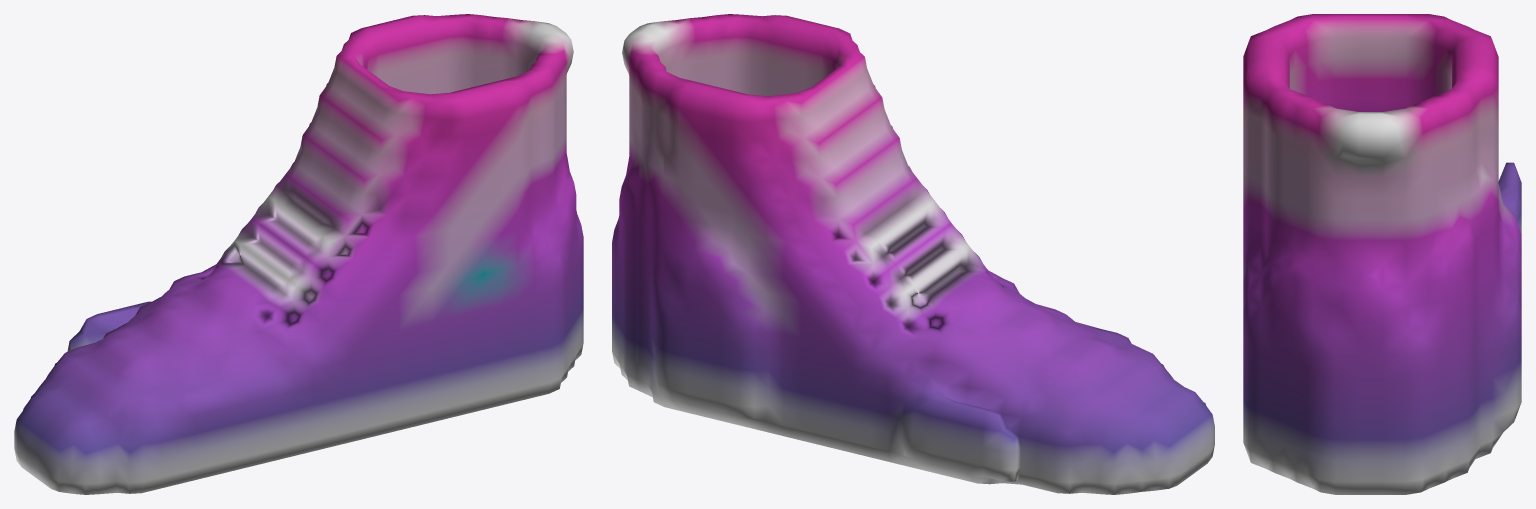
3 views of the same model, side by side, from view 1: azimuth 30°, elevation 25°; view 2: azimuth 150°, elevation 25°; view 3: azimuth 270°, elevation 25° (orthographic). The views are drawn at different scales.
Size of the model in its own units: 1.6 by 0.9 by 0.6.
